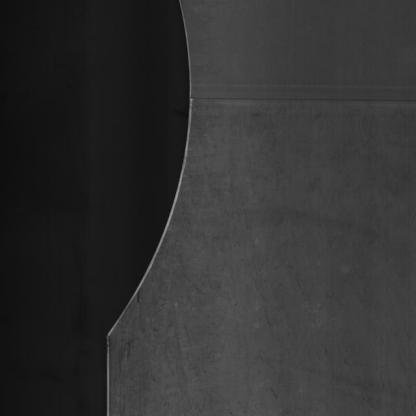crescent_gap: (93, 0, 220, 352)
welding_line: (177, 74, 416, 118)
